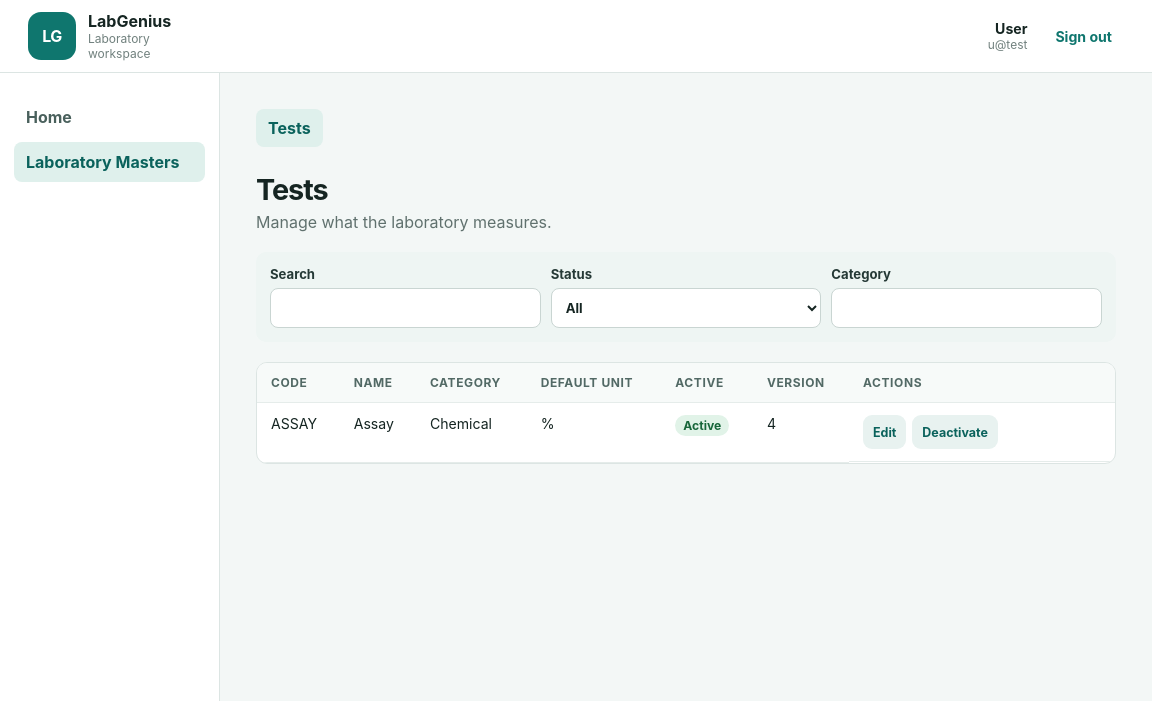
sends Test expected version and presents stale refresh
Step 1. Click the button "Edit" → coordinates (885, 432), box [863,415,906,449]
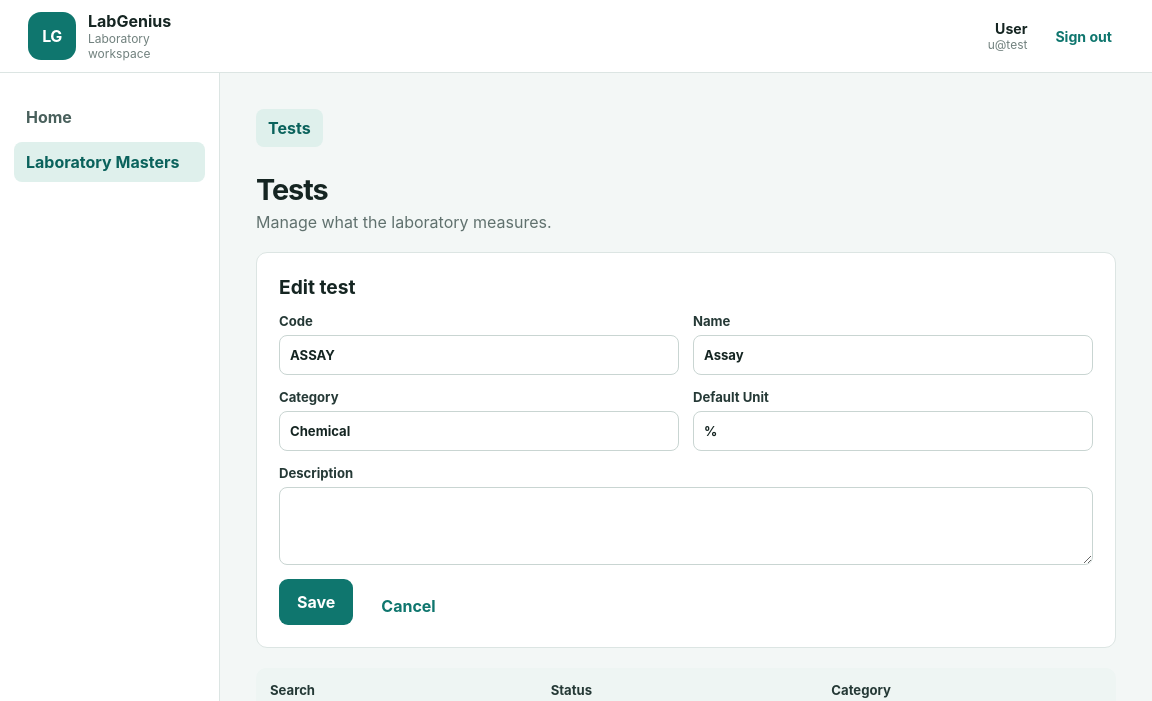
Step 2. Replace the text in the field labelled "Name" with "Changed" → coordinates (893, 355), box [693,335,1093,375]
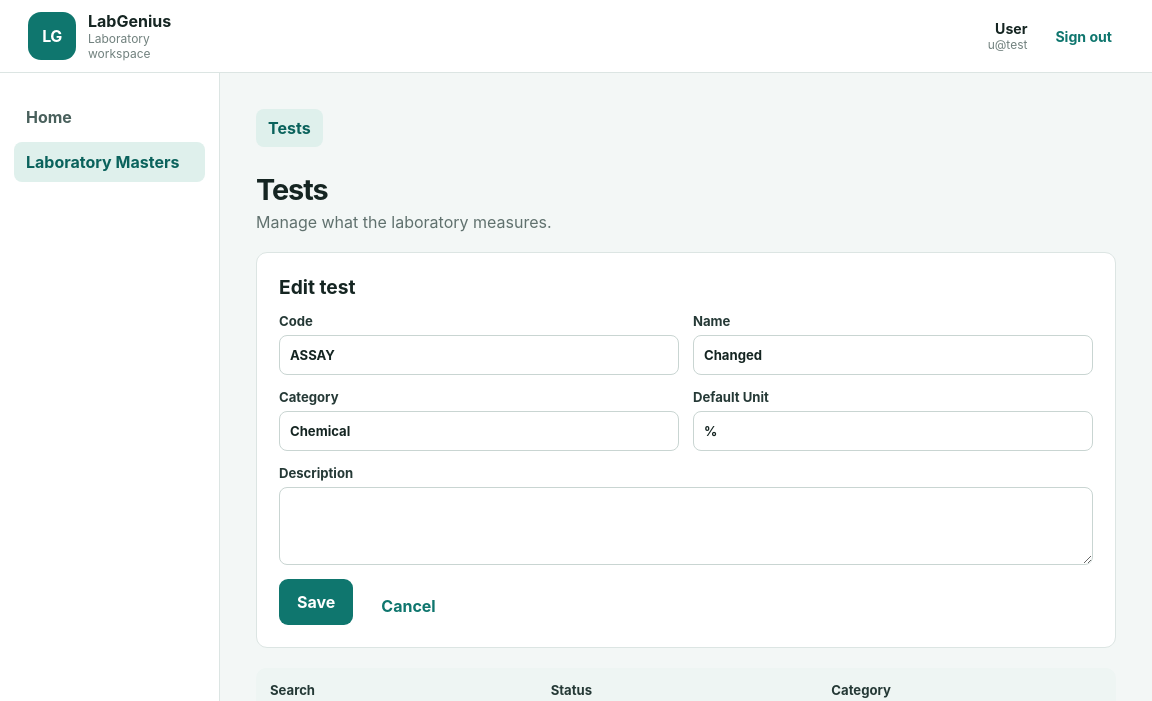
Step 3. Click the button "Save" → coordinates (316, 602), box [279,579,353,625]
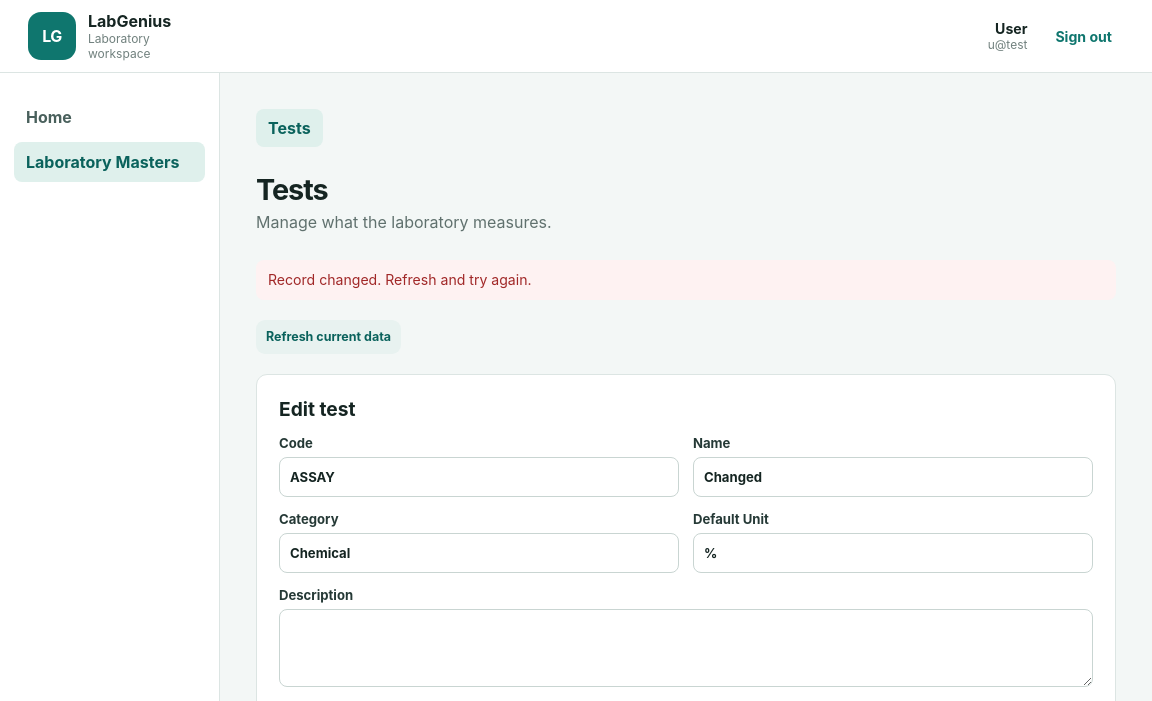
Now the message shows "Record changed", box [268,271,532,288]
Now the button "Refresh current data" is shown, box [256,320,401,354]
